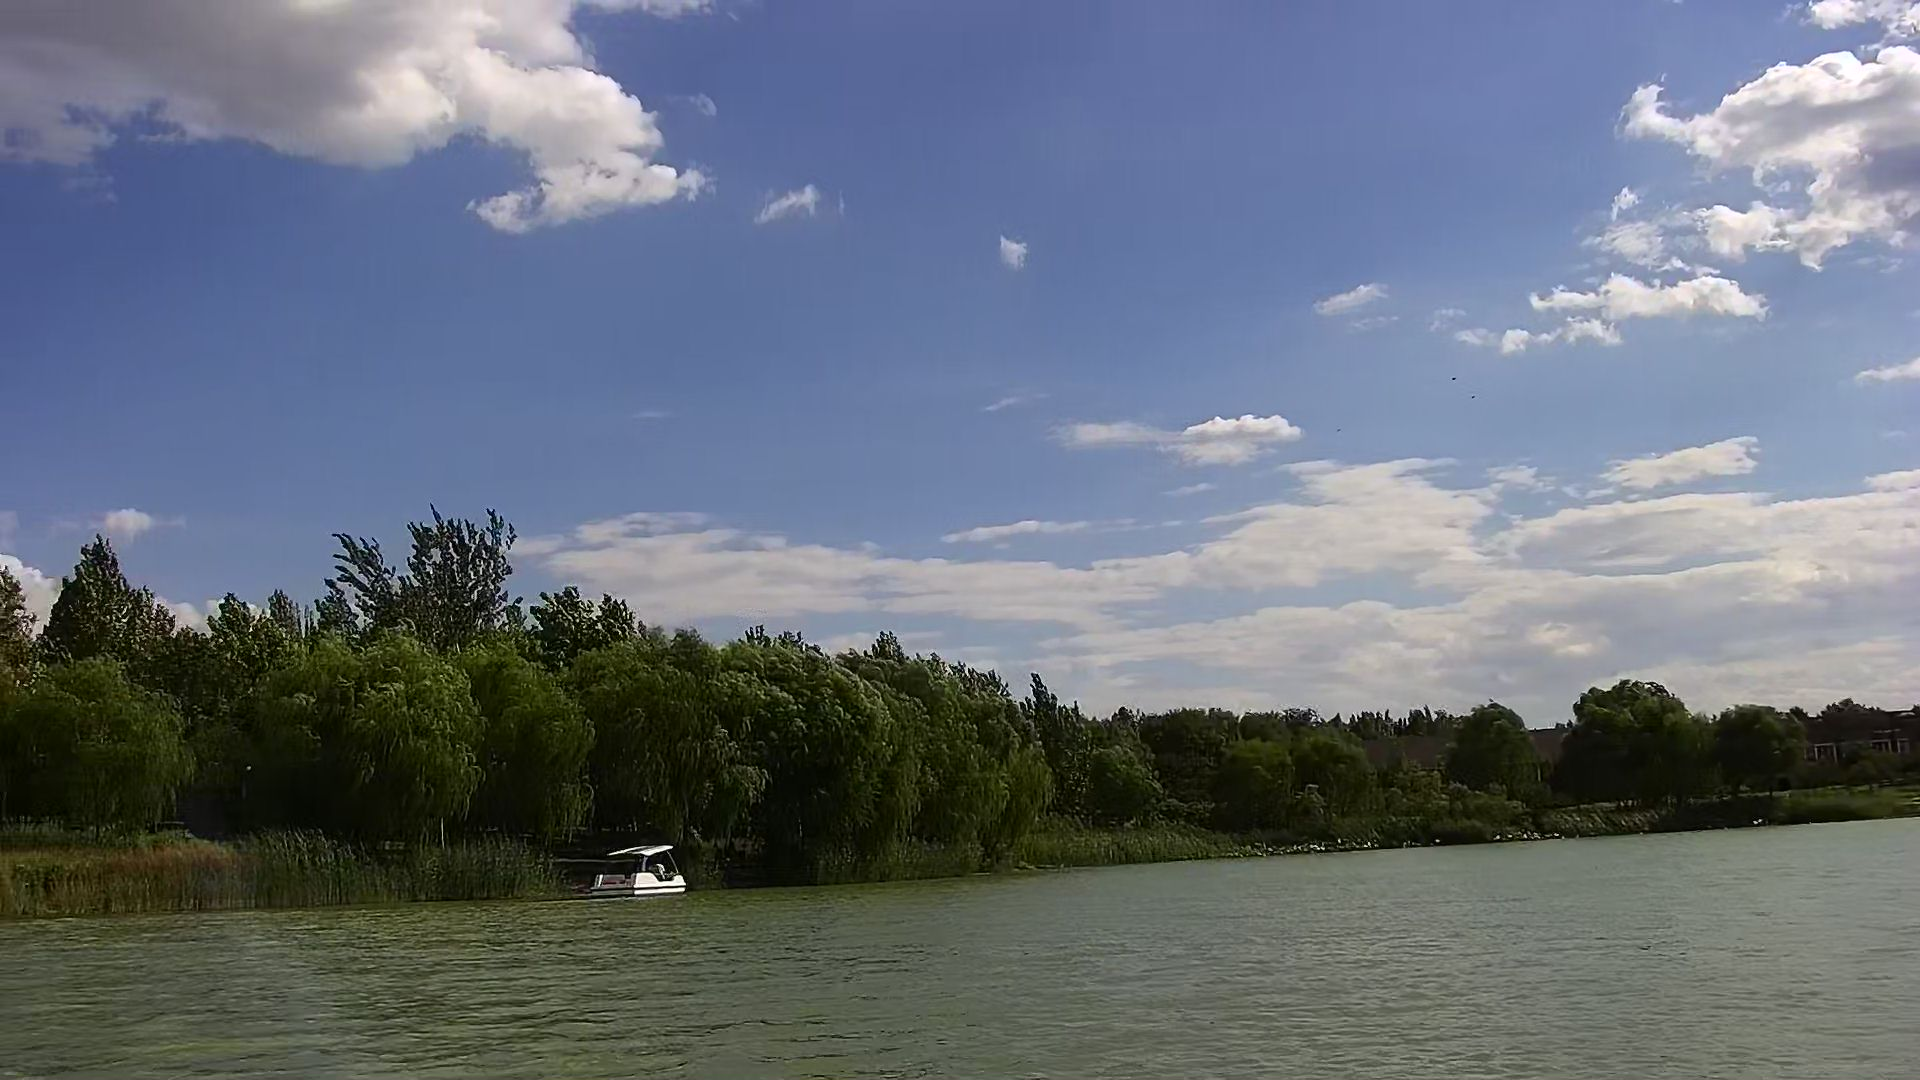boat: (587, 840, 687, 895)
